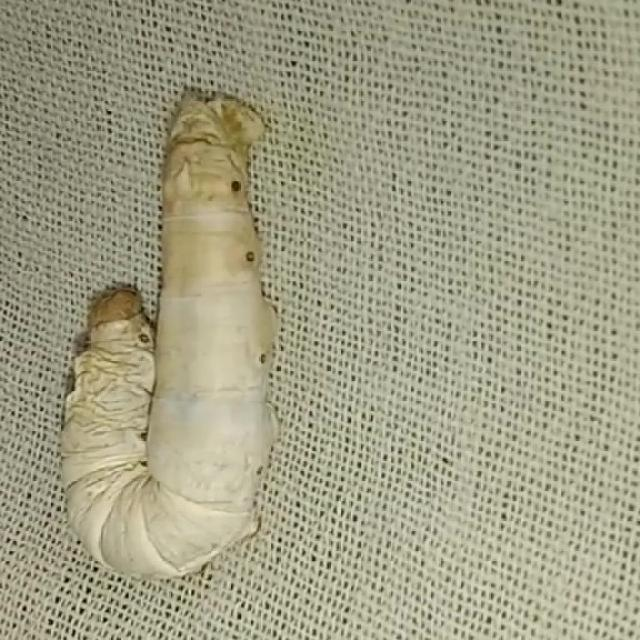Grasserie: (47, 69, 284, 587)
